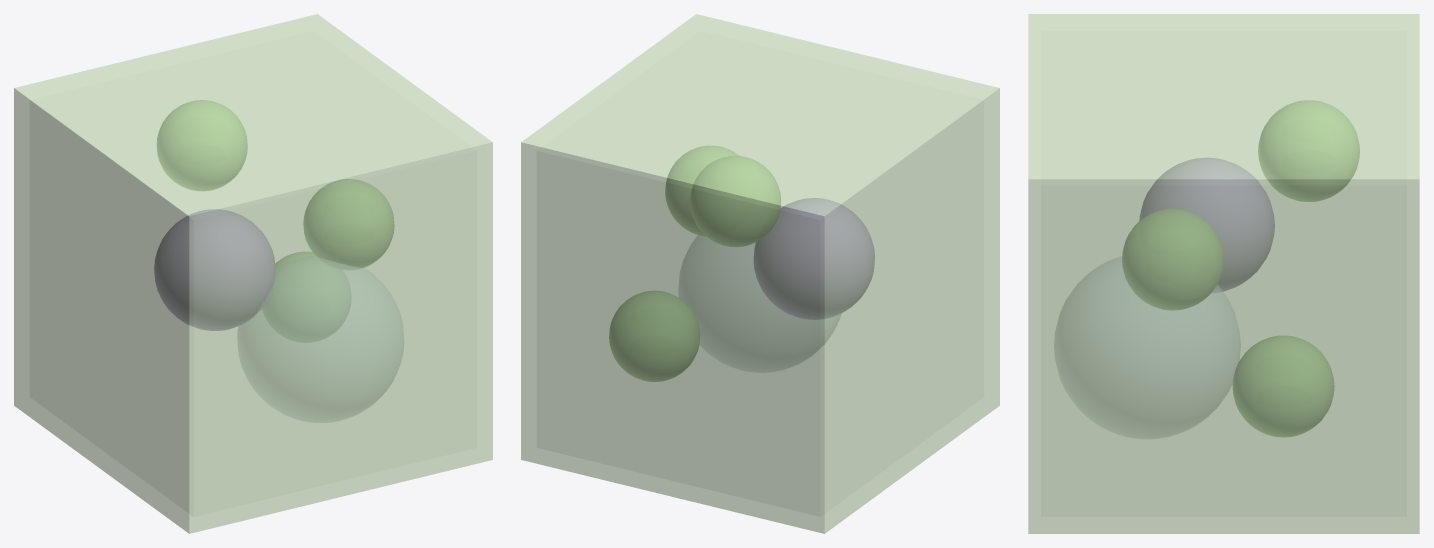
The model's file is plant-cell.glb.
3 views of the same model, side by side, from view 1: azimuth 30°, elevation 25°; view 2: azimuth 150°, elevation 25°; view 3: azimuth 270°, elevation 25° (orthographic). The views are drawn at different scales.
Visible parts, largest first — view 1: cell_wall, vacuole, nucleus, chloroplast_3, chloroplast_1, chloroplast_2; view 2: cell_wall, vacuole, nucleus, chloroplast_3, chloroplast_2, chloroplast_1; view 3: cell_wall, vacuole, nucleus, chloroplast_3, chloroplast_1, chloroplast_2.
Boxes of the visible parts, left/top/right/bottom form: cell_wall: left=14, top=14, right=492, bottom=533; vacuole: left=237, top=256, right=403, bottom=422; nucleus: left=154, top=209, right=275, bottom=330; chloroplast_3: left=157, top=100, right=247, bottom=190; chloroplast_1: left=303, top=179, right=394, bottom=269; chloroplast_2: left=263, top=252, right=350, bottom=342; cell_wall: left=521, top=14, right=999, bottom=533; vacuole: left=678, top=235, right=840, bottom=372; nucleus: left=753, top=198, right=874, bottom=319; chloroplast_3: left=690, top=156, right=780, bottom=246; chloroplast_2: left=609, top=291, right=699, bottom=381; chloroplast_1: left=665, top=146, right=738, bottom=236; cell_wall: left=1028, top=14, right=1419, bottom=533; vacuole: left=1054, top=256, right=1240, bottom=438; nucleus: left=1139, top=158, right=1274, bottom=292; chloroplast_3: left=1258, top=100, right=1359, bottom=201; chloroplast_1: left=1122, top=209, right=1223, bottom=310; chloroplast_2: left=1233, top=336, right=1334, bottom=437.
Bounding box in the file's own units: 1.15 × 1.15 × 1.15.
